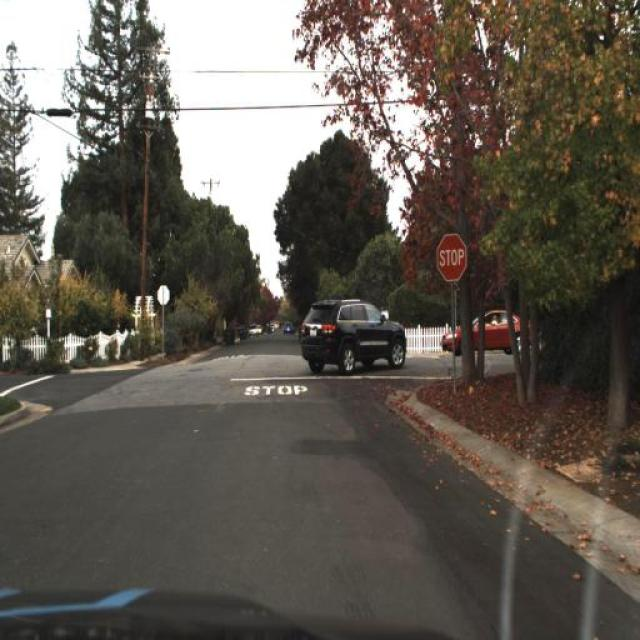car: (296, 294, 412, 374), (442, 302, 539, 364)
